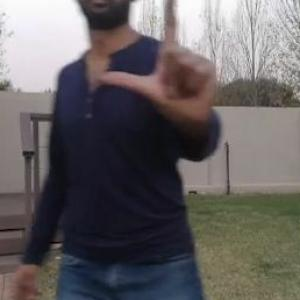land_hand: (95, 0, 220, 129)
